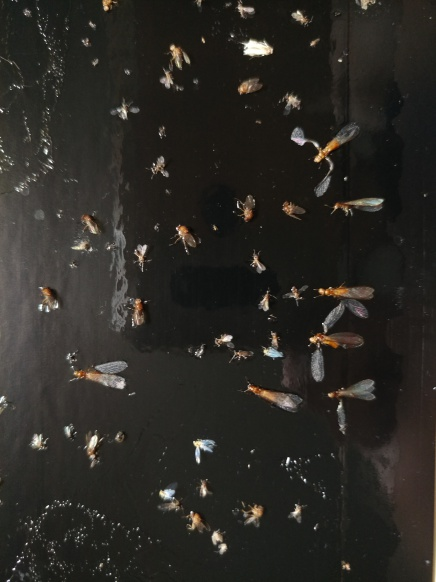flying termite: (287, 122, 366, 201), (327, 374, 388, 437), (310, 279, 386, 329), (303, 331, 371, 379), (61, 354, 135, 396), (236, 377, 307, 419), (324, 194, 391, 224)
